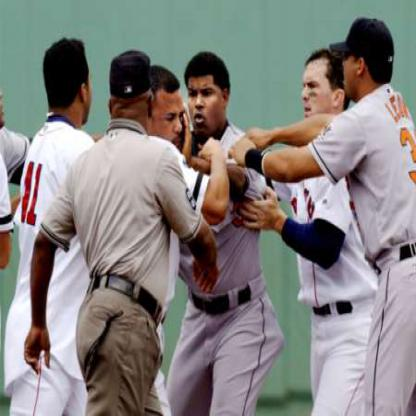face: (149, 78, 189, 162), (186, 57, 226, 136), (300, 52, 336, 132)
